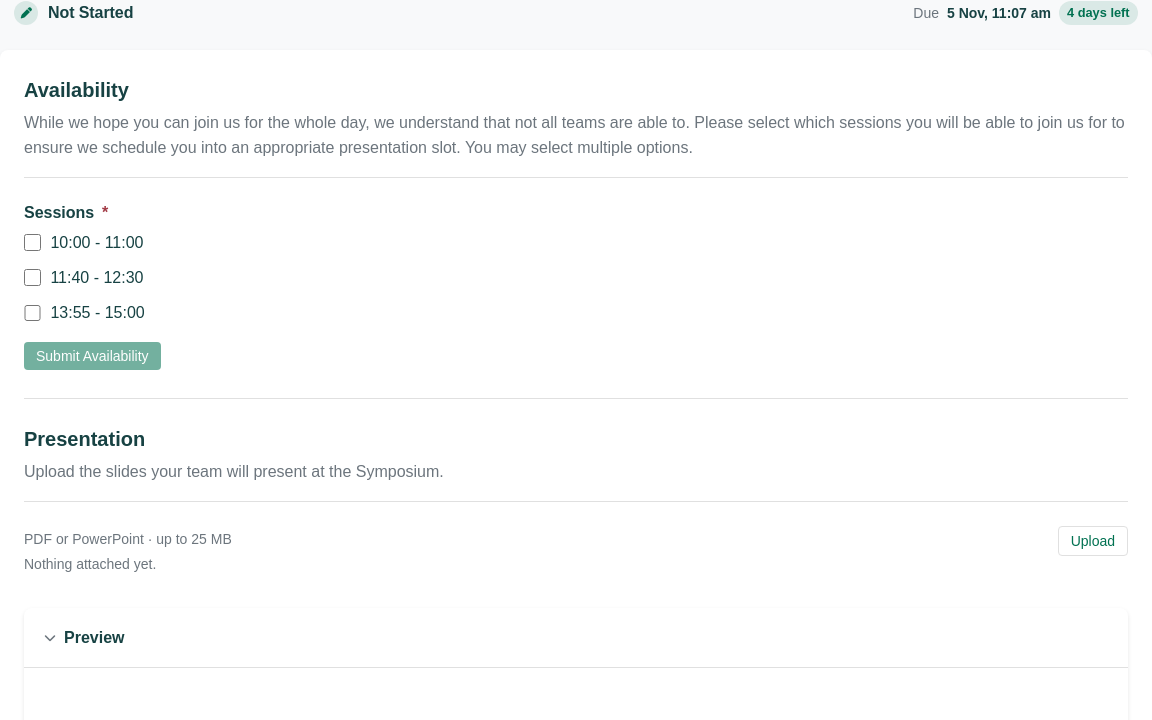
Test: availability › says when the times could not be submitted
Click the checkbox labelled "11:40 - 12:30" at (32, 278), box [24,269,41,286]
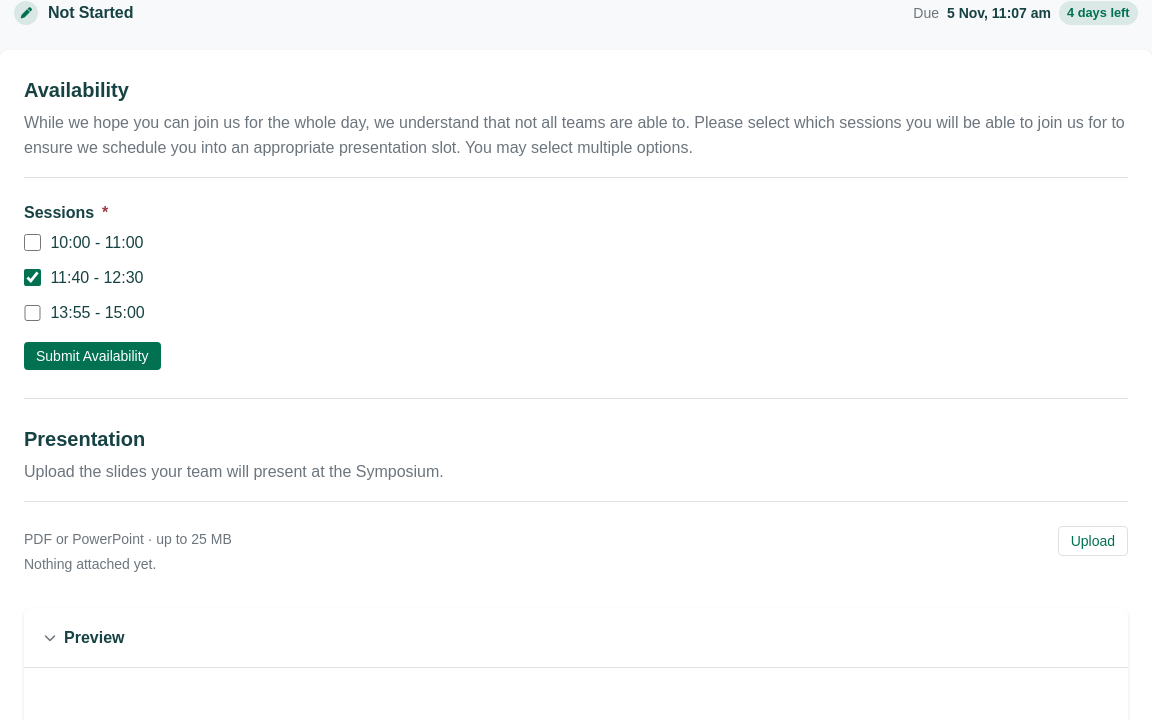
Click the button with test id "submit-availability" at (92, 356), box [24,342,161,370]
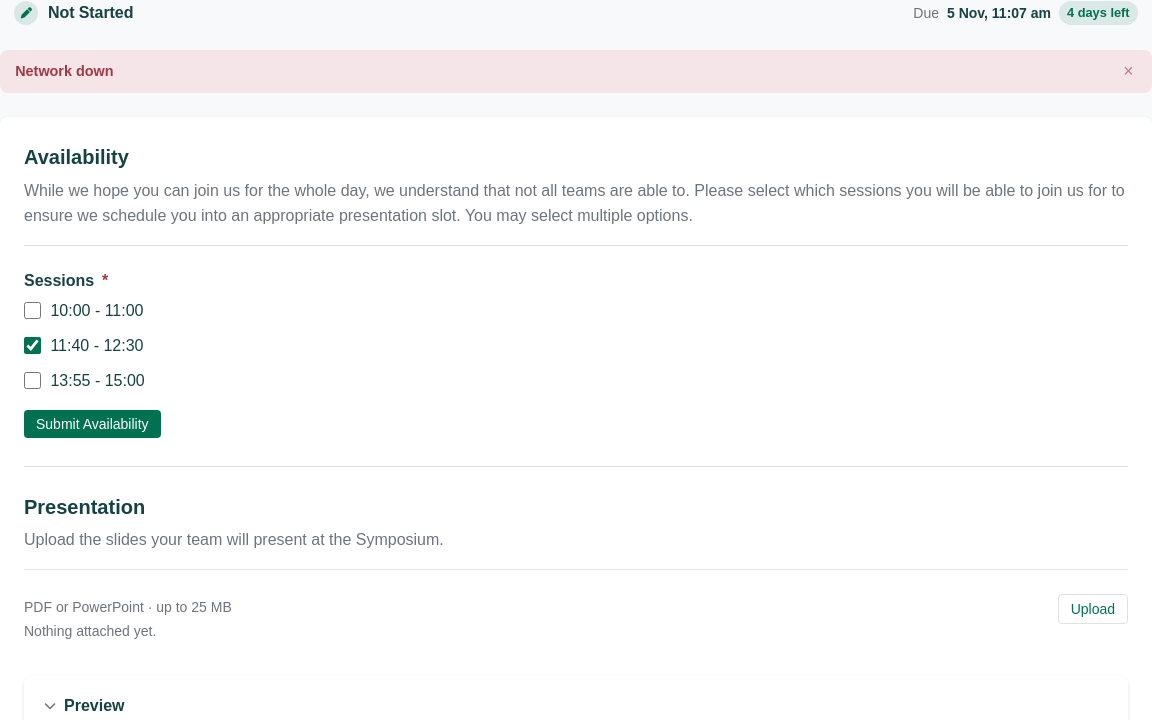
Check: the element with class "submission-message--error" is shown, box [0,50,1151,93]
